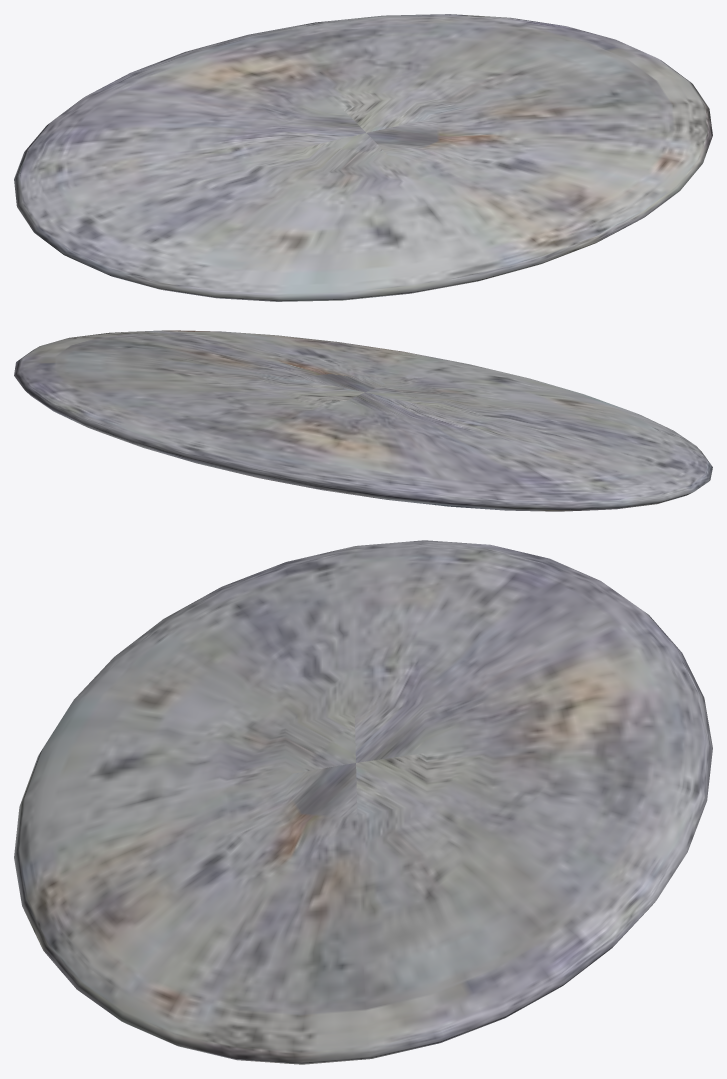
Rendered from Cockpit_Fin_B.fbx.
The picture shows the model from 3 angles, top to bottom: view 1: azimuth 30°, elevation 25°; view 2: azimuth 150°, elevation 25°; view 3: azimuth 270°, elevation 25°; orthographic projection. The views are drawn at different scales.
Parts seen in each view (by area): view 1: Cockpit_Fin_B; view 2: Cockpit_Fin_B; view 3: Cockpit_Fin_B.
Part boxes in pixels (box(x1,y1,x2,y2)): Cockpit_Fin_B: box(14, 14, 712, 301); Cockpit_Fin_B: box(14, 330, 712, 511); Cockpit_Fin_B: box(14, 540, 712, 1064).
Bounding box in the file's own units: 1.14 × 0.1498 × 0.6988.
